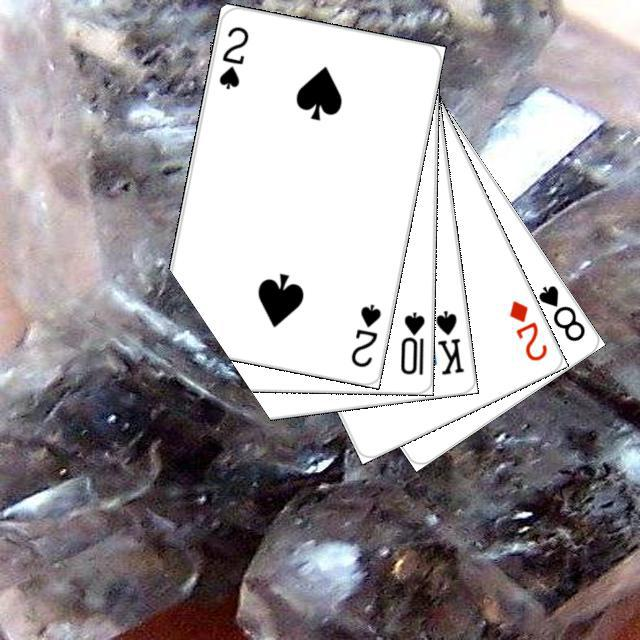10s: (395, 307, 427, 376)
2d: (504, 295, 549, 363)
2s: (346, 299, 383, 369), (214, 21, 251, 91)
8s: (533, 280, 587, 344)
Ks: (430, 305, 466, 377)
